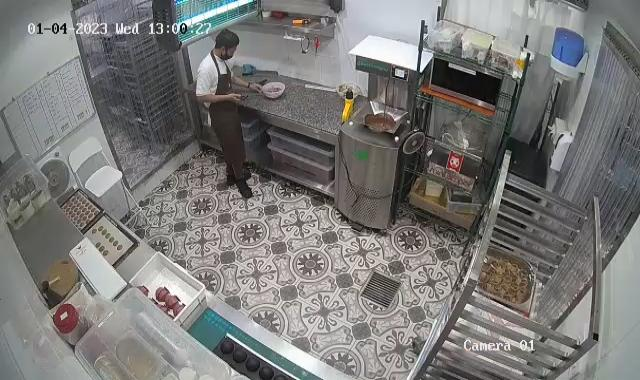no_hairnet: (213, 26, 241, 58)
